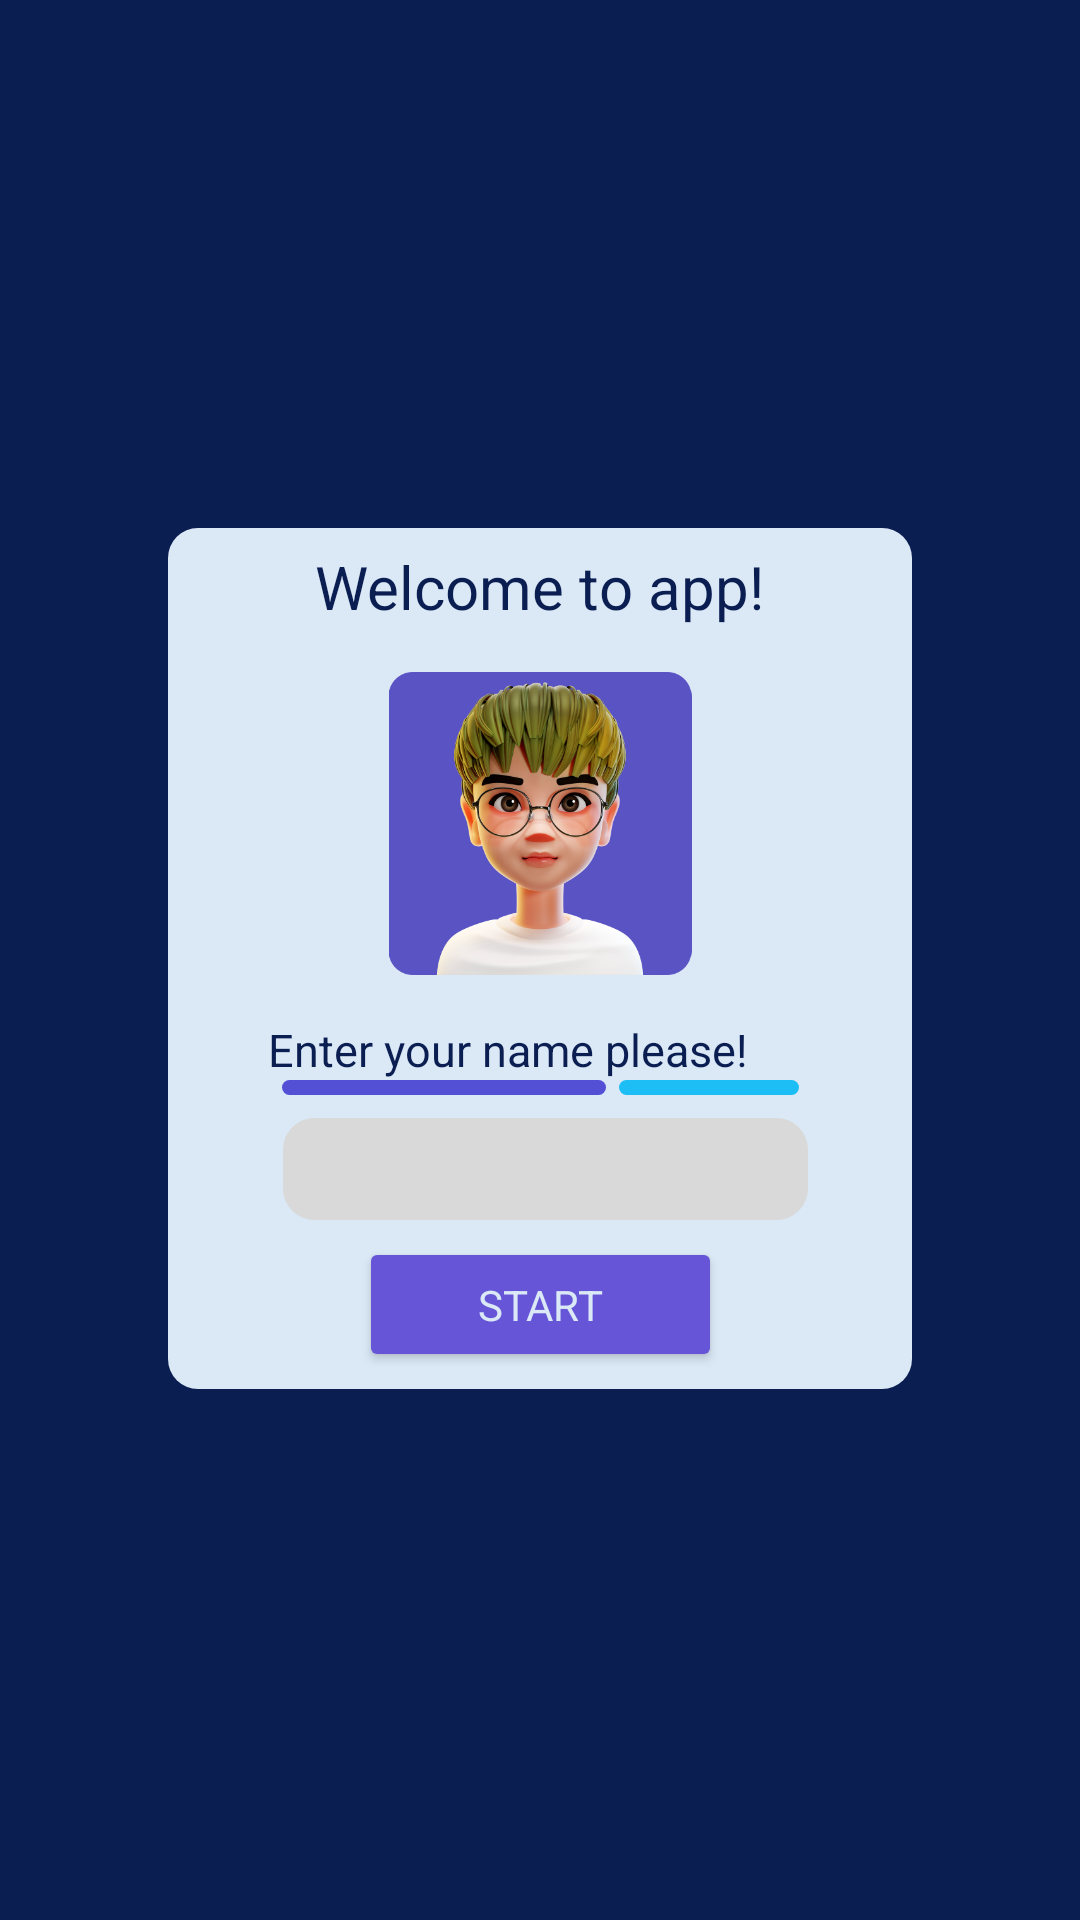

Screen size 1080 × 1920. Icon name, then its center in pixels as [x,y]:
Icon and image of app: [540,823]
